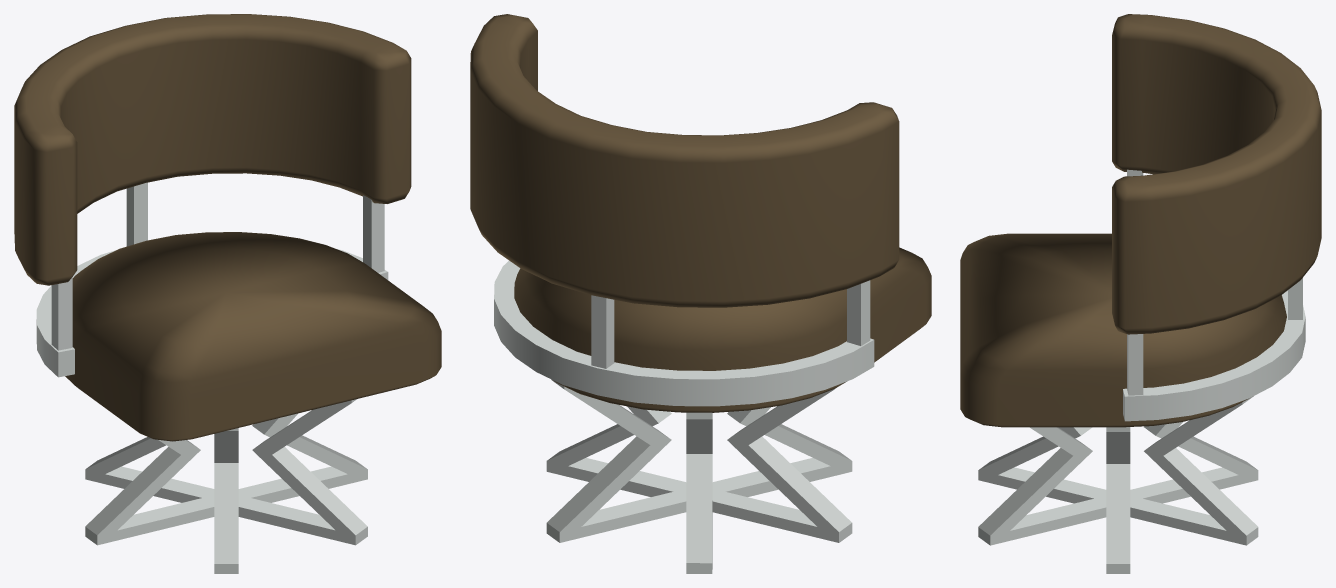
The picture shows the model from 3 angles, left to right: view 1: azimuth 30°, elevation 25°; view 2: azimuth 150°, elevation 25°; view 3: azimuth 270°, elevation 25°; orthographic projection. The views are drawn at different scales.
Parts seen in each view (by area): view 1: G:\FFXIV-MapTools\exports\x6t1\bg\ex5\01_xkt_x6\twn\x6t1\bgp (×2); view 2: G:\FFXIV-MapTools\exports\x6t1\bg\ex5\01_xkt_x6\twn\x6t1\bgp (×2); view 3: G:\FFXIV-MapTools\exports\x6t1\bg\ex5\01_xkt_x6\twn\x6t1\bgp (×2).
Boxes of the visible parts, x1,y1,x2,y2 form: G:\FFXIV-MapTools\exports\x6t1\bg\ex5\01_xkt_x6\twn\x6t1\bgp (×2): [14, 14, 441, 573]; G:\FFXIV-MapTools\exports\x6t1\bg\ex5\01_xkt_x6\twn\x6t1\bgp (×2): [470, 14, 931, 573]; G:\FFXIV-MapTools\exports\x6t1\bg\ex5\01_xkt_x6\twn\x6t1\bgp (×2): [960, 14, 1321, 573].
Size of the model in its own units: 0.9346 by 0.9761 by 0.7837.
